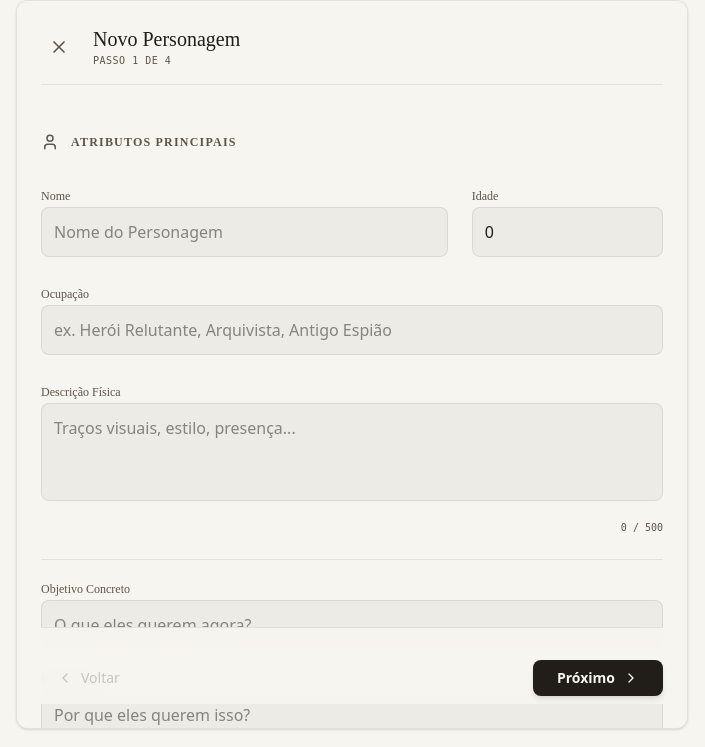
Scenario: CharacterWizard Integration › should show an inline error (not alert) and stay on step 4 if fewer than 3 tells are provided
The width and height of the screenshot is (705, 747).
Type "Valid Name" into the field labelled "Nome". click: [244, 232]
box: [41,207,448,257]
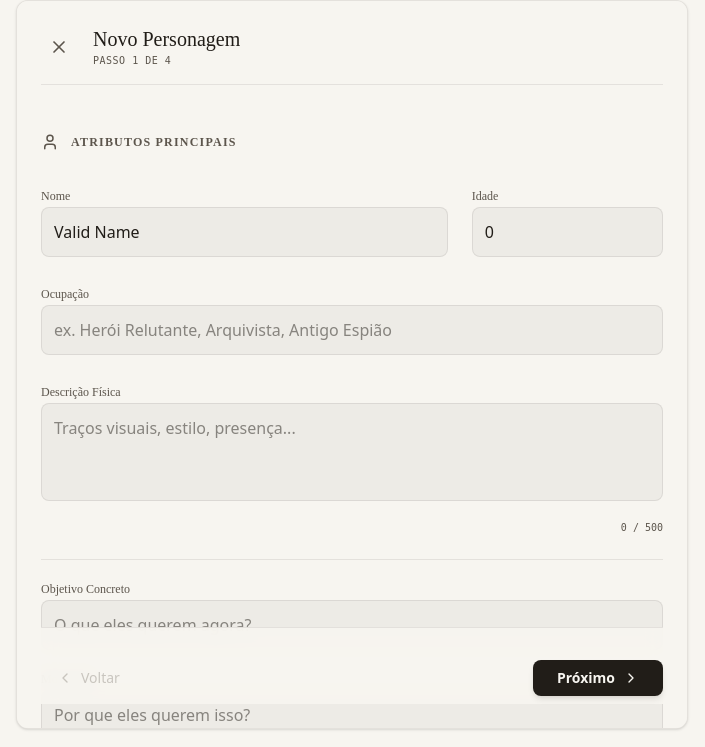
// Go to step 4
Click the button "Próximo". click: [598, 678]
box: [533,660,663,696]
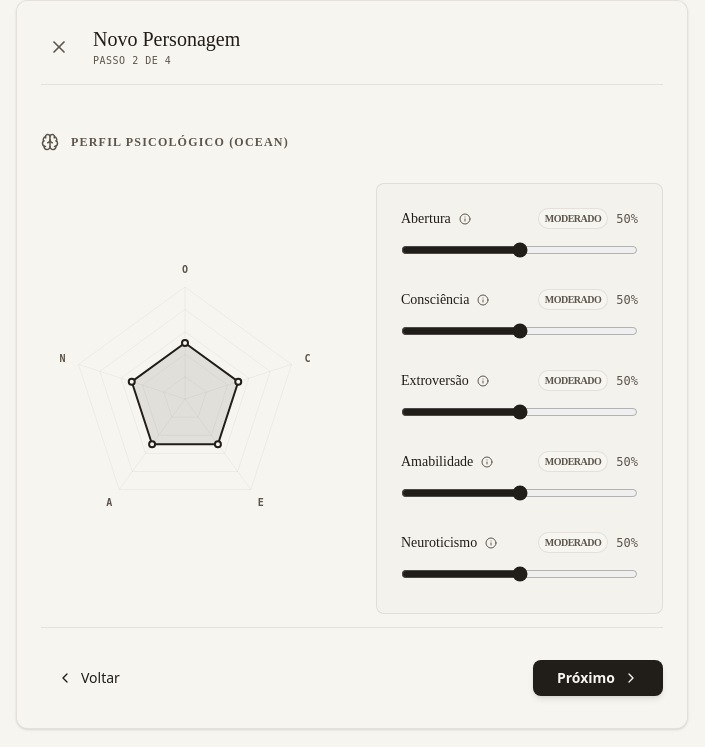
Click the button "Próximo". click: [598, 678]
box: [533,660,663,696]
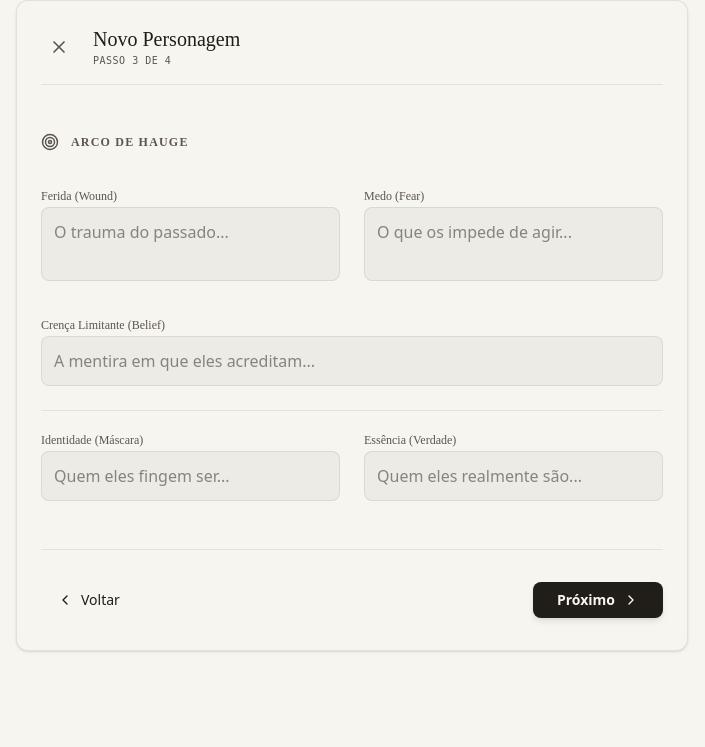
Click the button "Próximo". click: [598, 600]
box: [533,582,663,618]
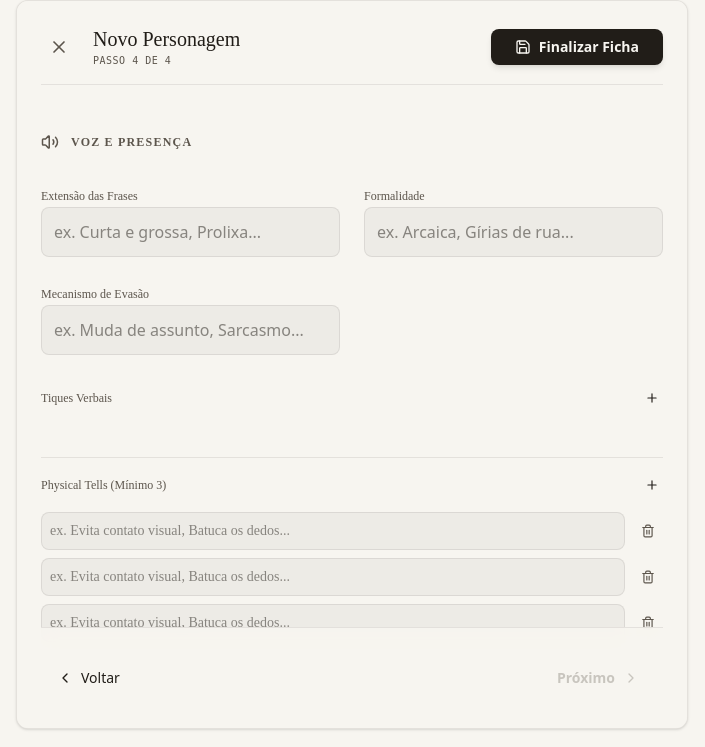
Click the button "Finalizar Ficha". click: [577, 46]
box: [491,28,663,64]
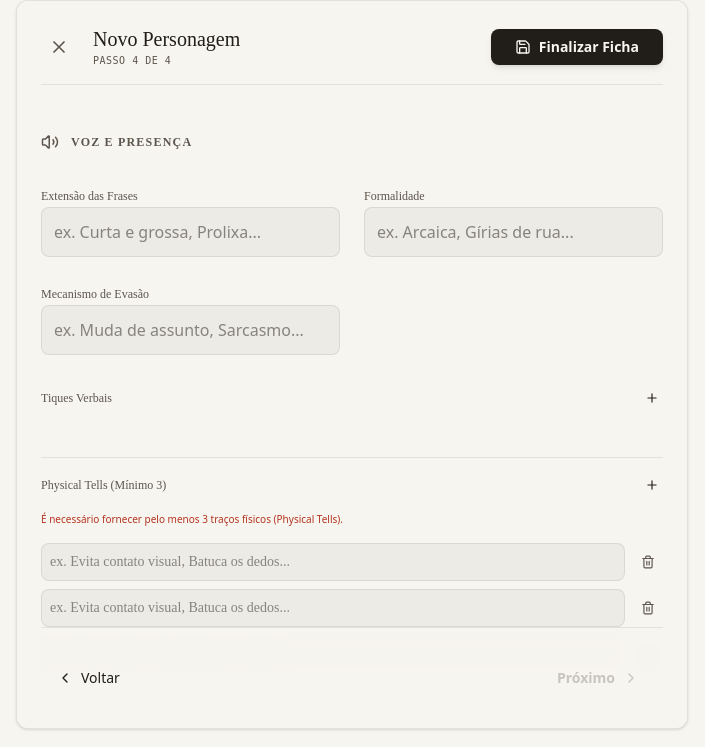
Now the text "Passo 4 de 4" is shown, box [93,55,171,66]
Now the text "É necessário fornecer pelo menos 3 traços físicos (Physical Tells)." is shown, box [41,512,343,526]
